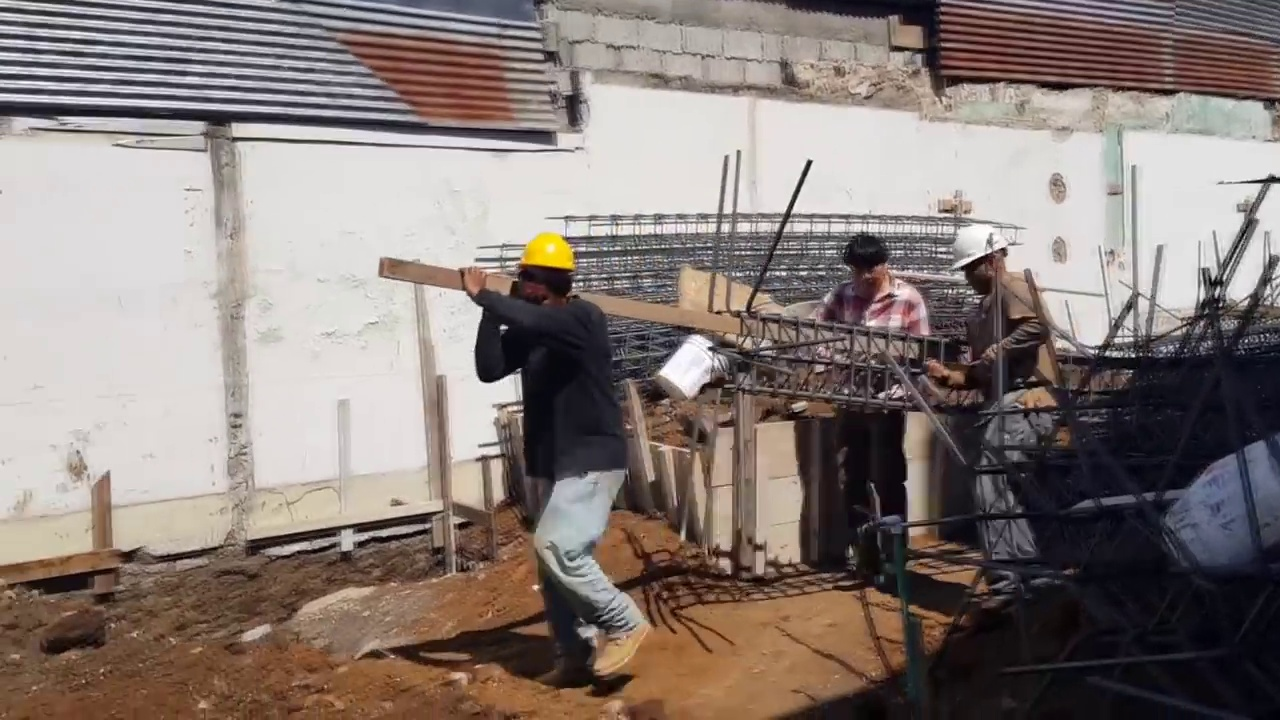helmet: (517, 226, 577, 280), (949, 224, 1016, 272)
helmet-off: (843, 235, 893, 298)
helmet-on: (945, 223, 1015, 297), (514, 232, 578, 310)
person: (478, 208, 645, 696), (936, 214, 1065, 593), (819, 234, 946, 600)
